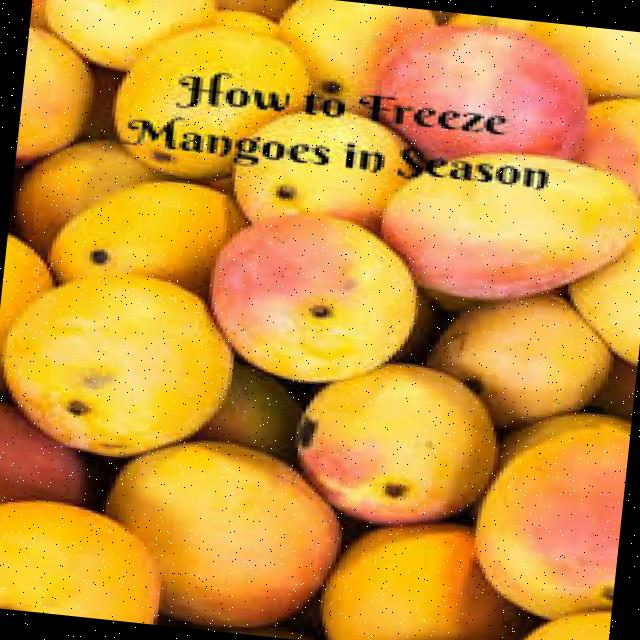mango: (207, 214, 420, 387)
